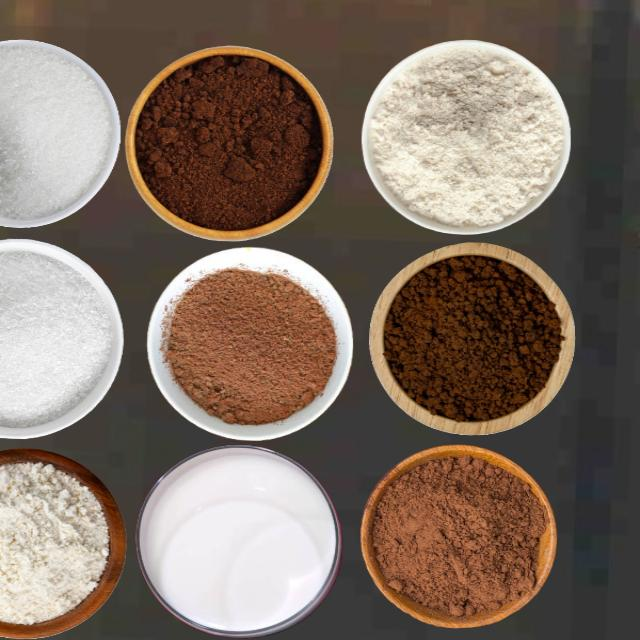Cocoa: (370, 453, 546, 619), (160, 265, 337, 425)
Coffee: (133, 50, 322, 231), (382, 253, 563, 422)
Flour: (368, 44, 564, 227), (0, 459, 109, 625)
Sugar: (0, 249, 112, 428), (0, 40, 111, 220)
